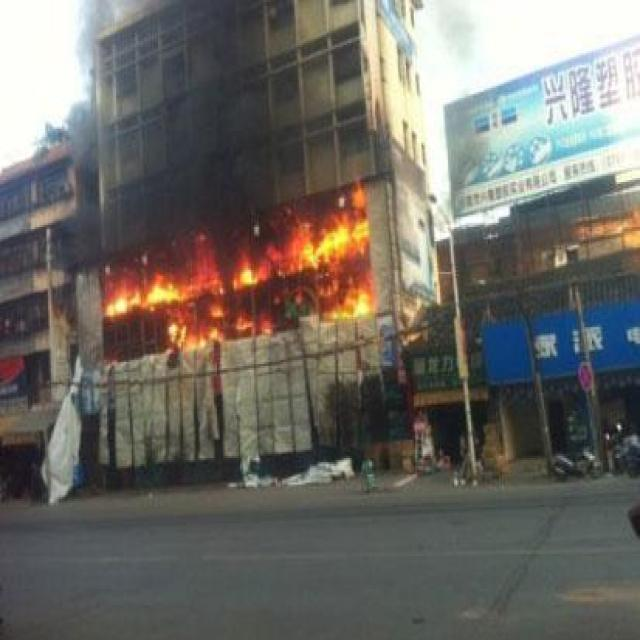fire: (100, 211, 374, 331)
smoke: (141, 0, 285, 200)
